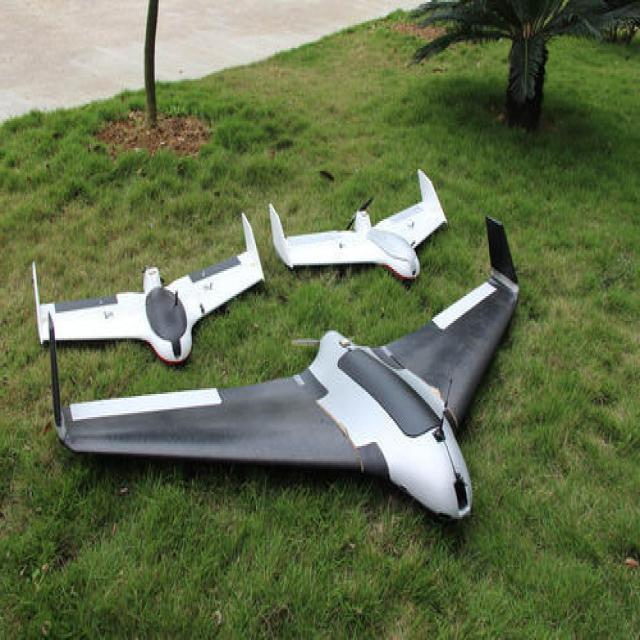iha: (15, 208, 246, 366)
